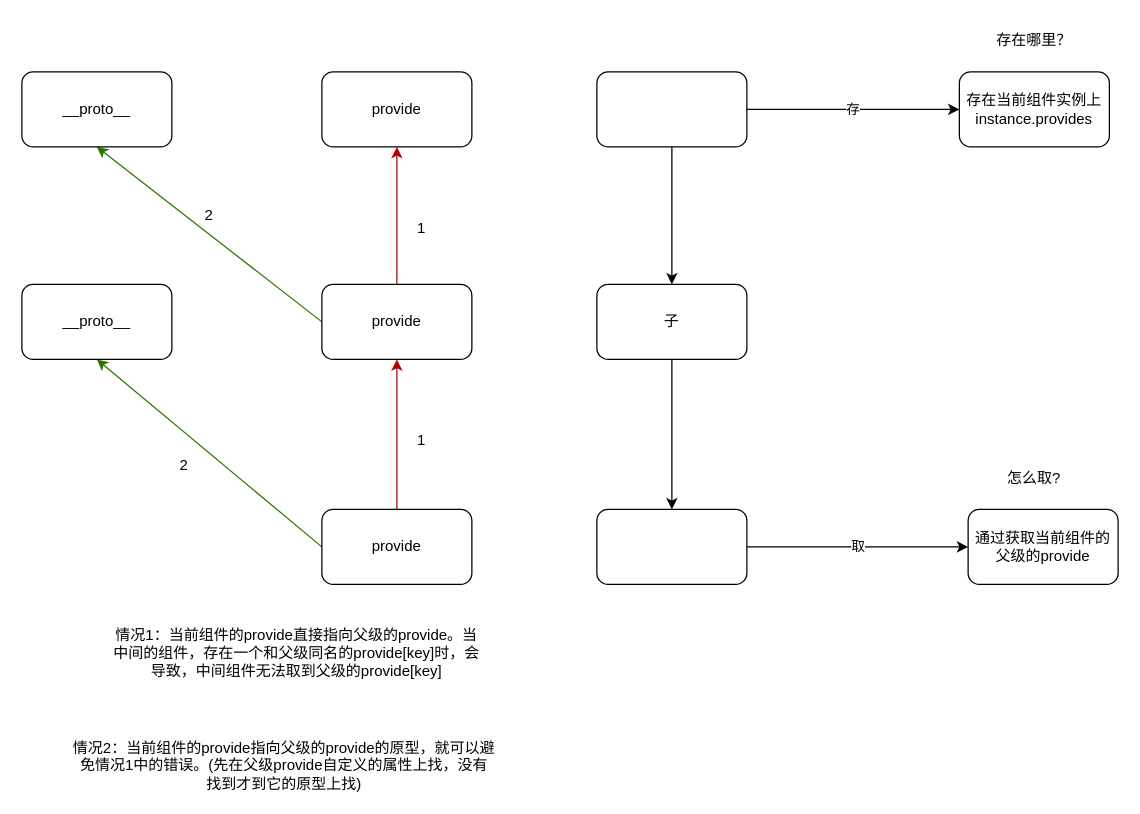
The diagram is 1140 pixels wide and 814 high, and some of its shapes have lost their labels. Here are the shapes that lost their labels. From the top down, the centre of each, then its label:
[671,109]: 父组件，通过provide提供数据
[671,546]: 子组件通过inject获取数据
